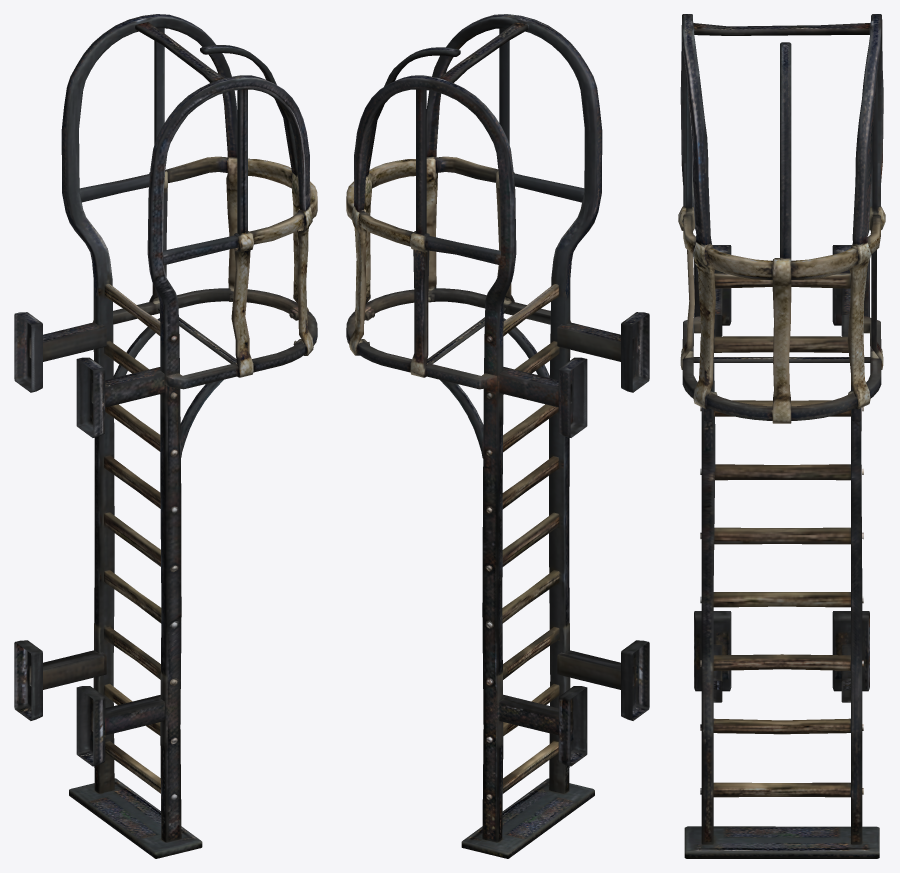
The model's file is SM_Env_SohoFireEscapeLadder.fbx.
3 views of the same model, side by side, from view 1: azimuth 30°, elevation 25°; view 2: azimuth 150°, elevation 25°; view 3: azimuth 270°, elevation 25° (orthographic). The views are drawn at different scales.
Visible parts, largest first — view 1: SM_Env_SohoFireEscapeLadder; view 2: SM_Env_SohoFireEscapeLadder; view 3: SM_Env_SohoFireEscapeLadder.
Boxes of the visible parts, box(x1,y1,x2,y2) form: SM_Env_SohoFireEscapeLadder: box(14, 14, 317, 858); SM_Env_SohoFireEscapeLadder: box(346, 14, 649, 858); SM_Env_SohoFireEscapeLadder: box(678, 14, 885, 858).
Bounding box in the file's own units: 36.47 × 23.24 × 105.
Materials: 1 (1 with a texture image).
